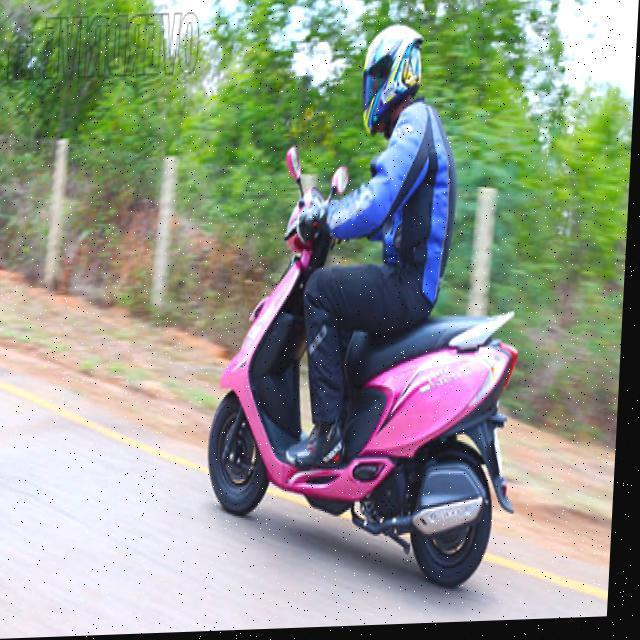Helmet: (354, 17, 430, 142)
